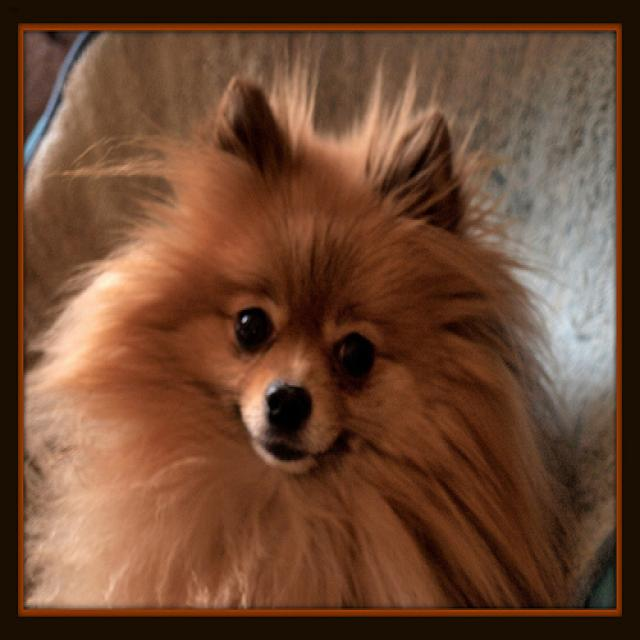dog-pomeranian: (9, 27, 590, 627)
